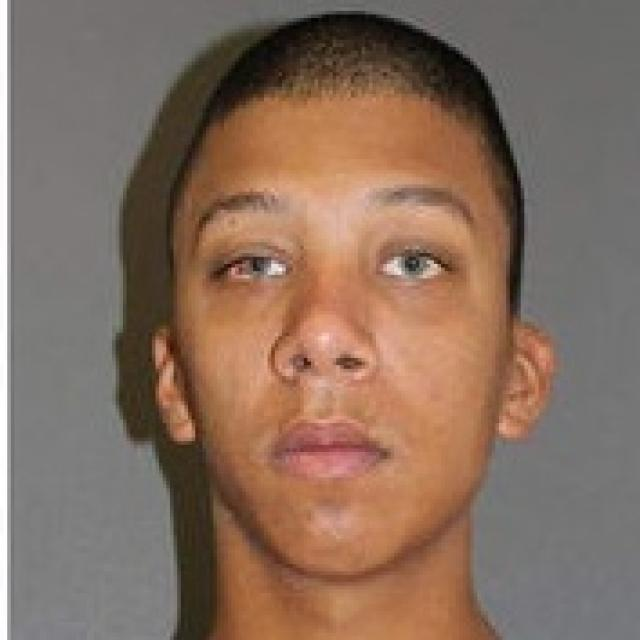Depress: (168, 89, 519, 588)
